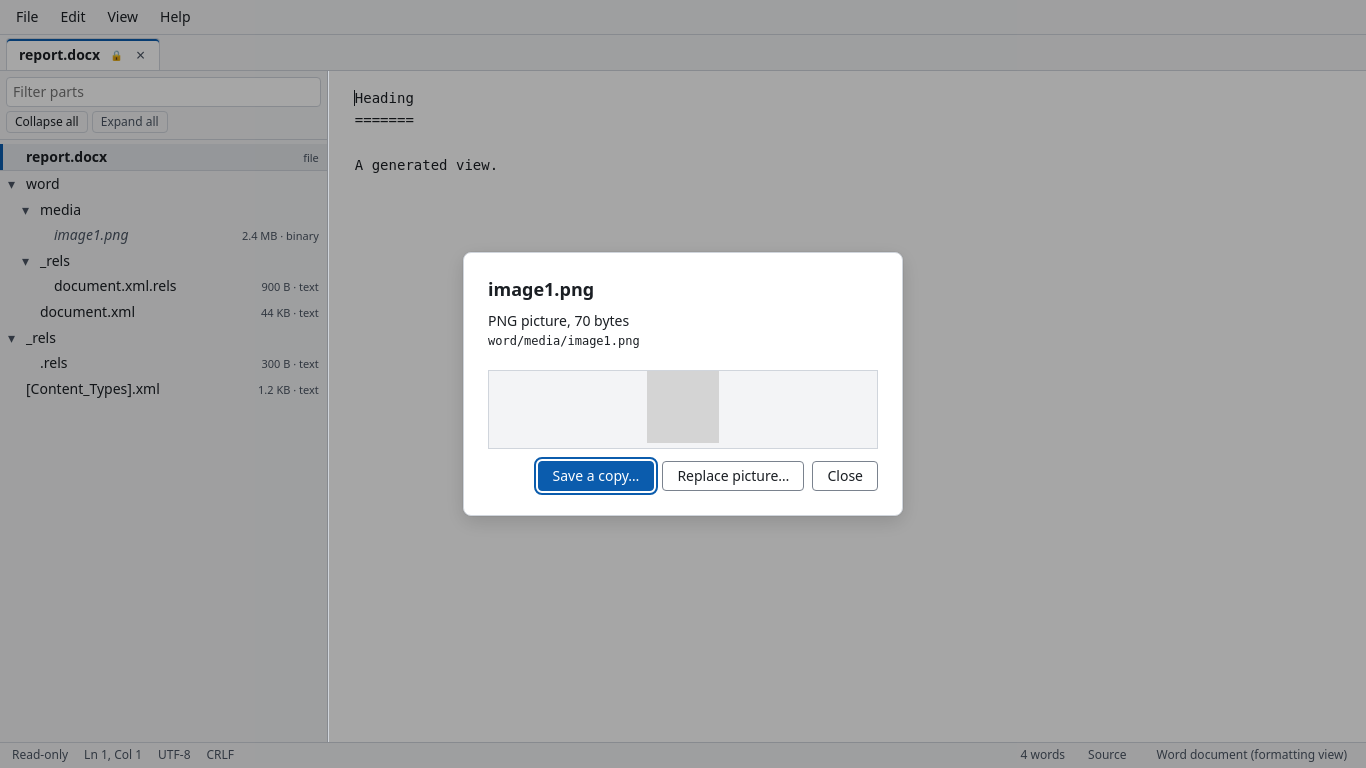
the binary part dialog › Save a copy › notifies when the save dialog itself fails
Click the button "Save a copy…" at (596, 476), box [538, 461, 654, 491]
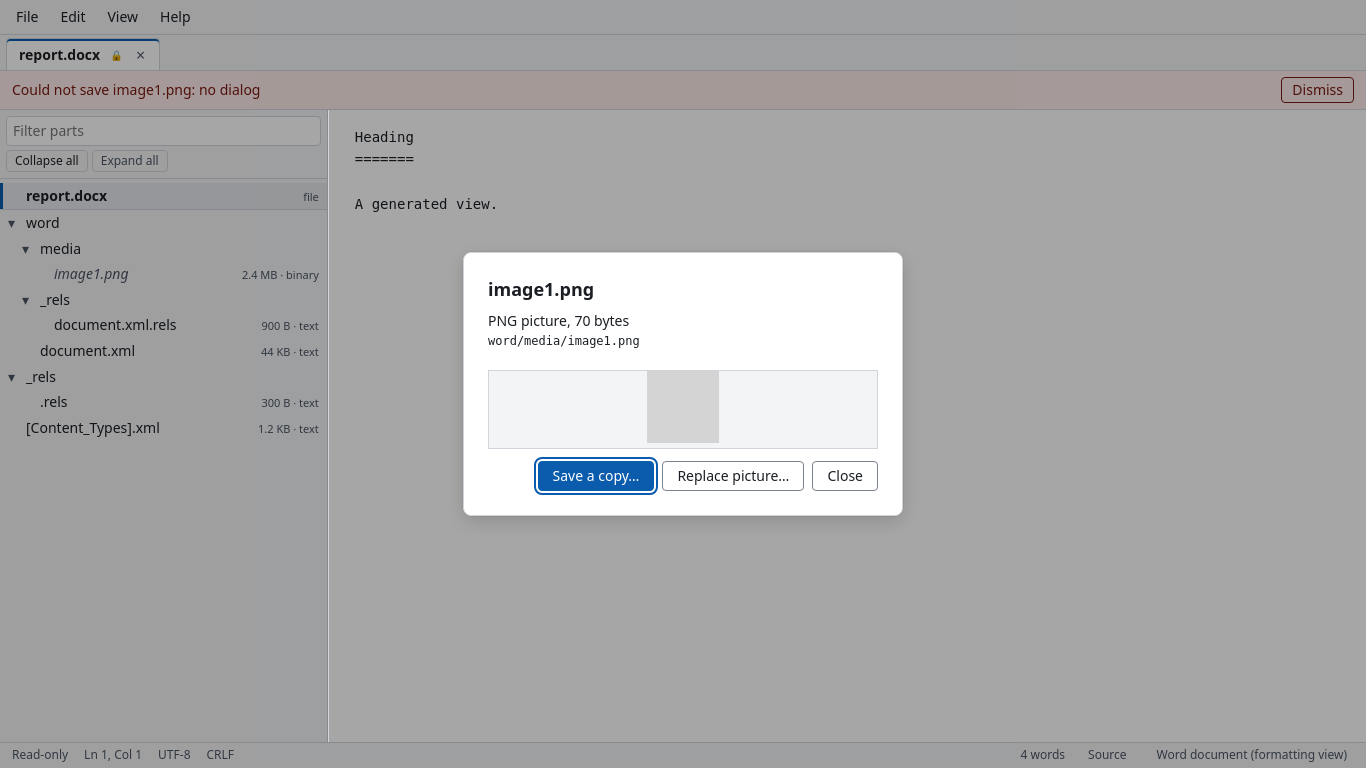
Result: the text "Could not save image1.png: no dialog" is shown at [12, 80, 260, 100]
